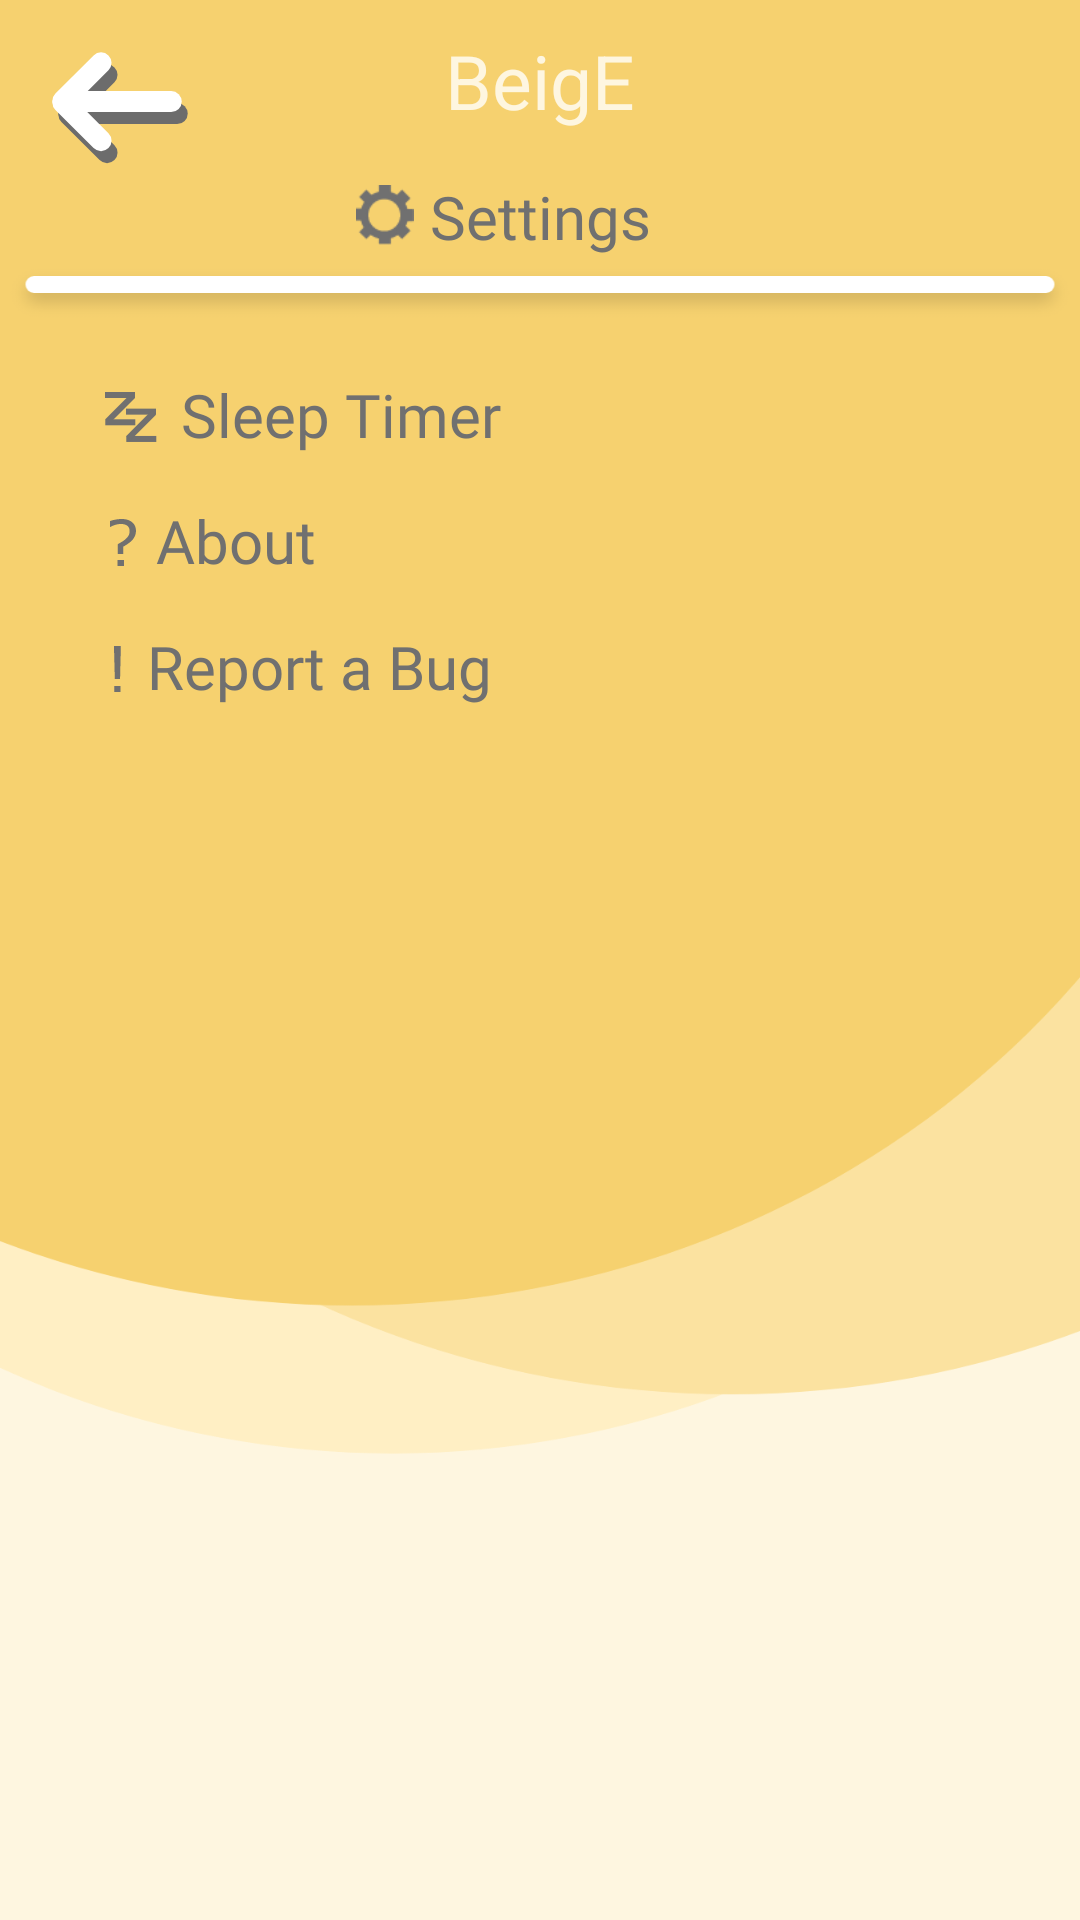

Where to tap for icons on this 1080 × 1920 app screen, as (x,y):
back: (120,107)
